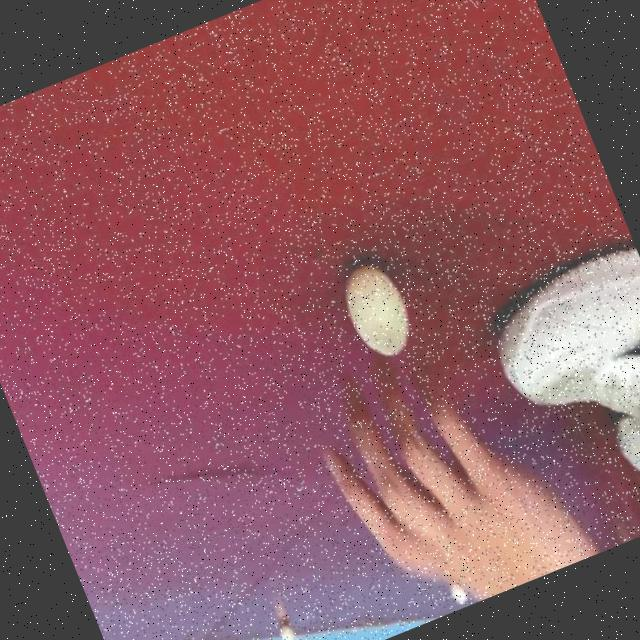ping-pong-ball: (327, 244, 427, 374), (264, 605, 303, 640), (438, 575, 474, 612)
